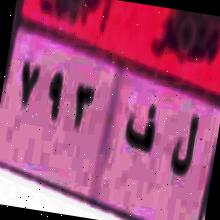3: (68, 82, 95, 138)
7: (17, 61, 40, 109)
9: (44, 68, 64, 121)
faa: (123, 100, 159, 156)
laam: (166, 100, 202, 186)
